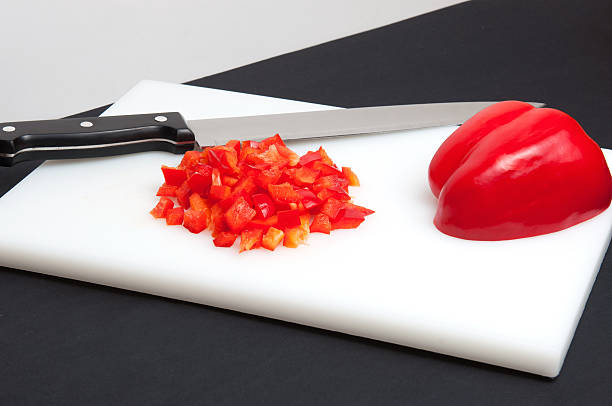knife: (1, 98, 546, 170)
